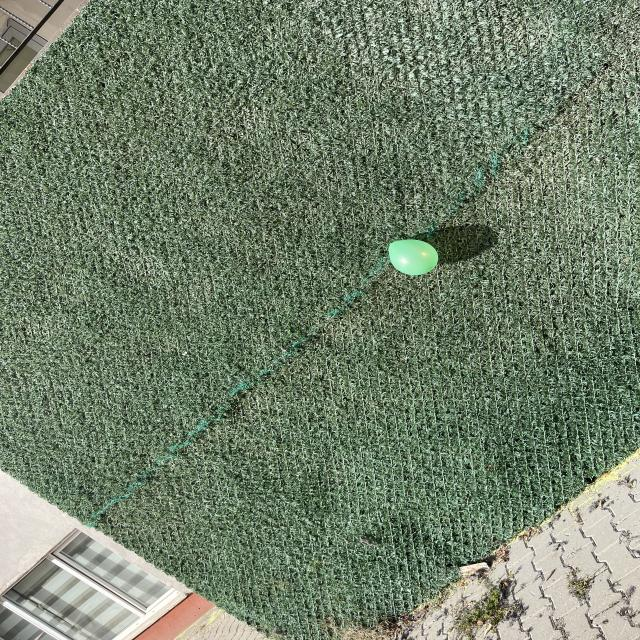balloon: (389, 239, 438, 275)
